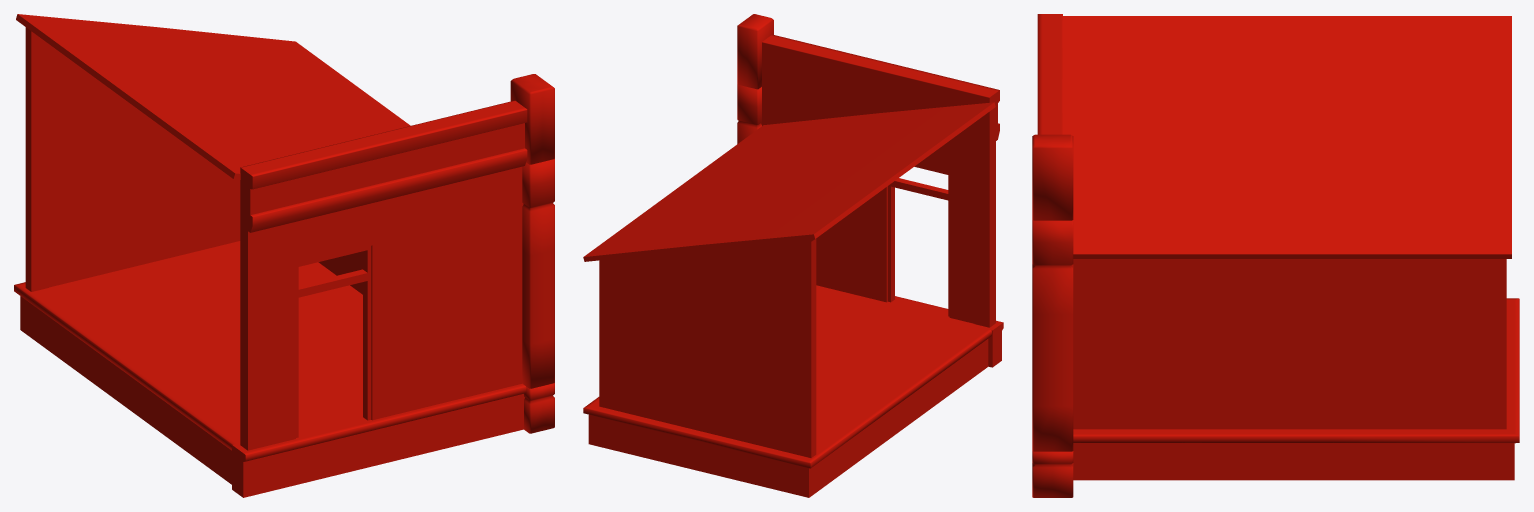
The model's file is IndBuilding1_Ext_A.fbx.
The picture shows the model from 3 angles, left to right: view 1: azimuth 30°, elevation 25°; view 2: azimuth 150°, elevation 25°; view 3: azimuth 270°, elevation 25°; orthographic projection. The views are drawn at different scales.
Visible parts, largest first — view 1: IndBuilding1_Ext_A; view 2: IndBuilding1_Ext_A; view 3: IndBuilding1_Ext_A.
Part boxes in pixels (left/top/right/bottom): IndBuilding1_Ext_A: left=14, top=14, right=554, bottom=497; IndBuilding1_Ext_A: left=583, top=14, right=1003, bottom=497; IndBuilding1_Ext_A: left=1032, top=14, right=1519, bottom=497.
Bounding box in the file's own units: 7.18 × 7.6 × 9.55.
